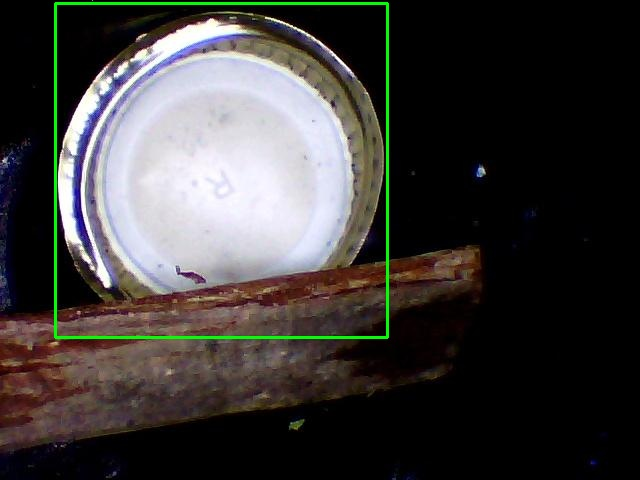capsule: (55, 3, 387, 337)
